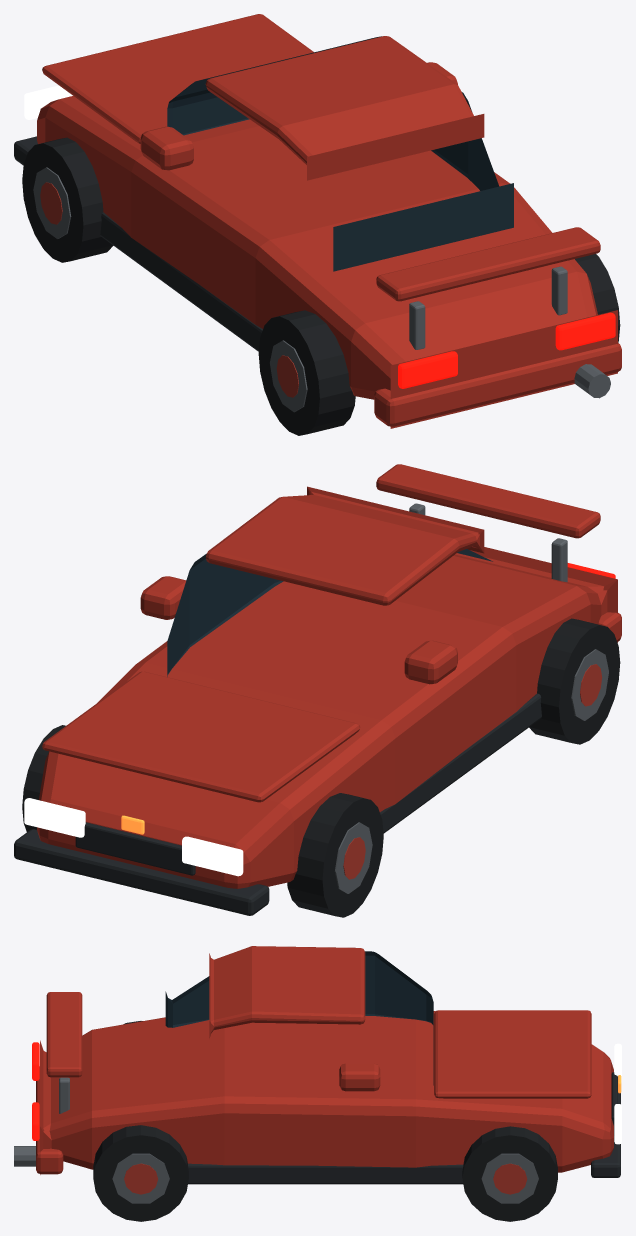
The model's file is hinode-fictional-coupe.glb.
The picture shows the model from 3 angles, top to bottom: view 1: azimuth 30°, elevation 25°; view 2: azimuth 150°, elevation 25°; view 3: azimuth 270°, elevation 25°; orthographic projection. The views are drawn at different scales.
Parts seen in each view (by area): view 1: CAR_Body_Shell, CAR_Roof_Panel, CAR_Hood_Inset, CAR_Cabin_Glass, WHEEL_RL, CAR_Rear_Bumper, CAR_Spoiler_Wing, WHEEL_FL, CAR_Side_Skirt_L, CAR_Mirror_L, BRAKE_LIGHT_R, BRAKE_LIGHT_L (+9 smaller); view 2: CAR_Body_Shell, CAR_Hood_Inset, CAR_Roof_Panel, WHEEL_FL, CAR_Spoiler_Wing, WHEEL_RL, CAR_Front_Lip, CAR_Cabin_Glass, CAR_Side_Skirt_L, CAR_Front_Grille, CAR_Mirror_L, HEADLIGHT_L (+8 smaller); view 3: CAR_Body_Shell, CAR_Hood_Inset, CAR_Roof_Panel, CAR_Side_Skirt_R, WHEEL_RR, WHEEL_FR, CAR_Cabin_Glass, CAR_Spoiler_Wing, WHEEL_FR_HUB, WHEEL_RR_HUB, CAR_Mirror_R, CAR_Rear_Bumper (+5 smaller).
Boxes of the visible parts, x1,y1,x2,y2 form: CAR_Body_Shell: (37, 96, 617, 428); CAR_Roof_Panel: (205, 36, 484, 180); CAR_Hood_Inset: (42, 14, 313, 143); CAR_Cabin_Glass: (167, 36, 513, 271); WHEEL_RL: (258, 310, 355, 435); CAR_Rear_Bumper: (374, 343, 621, 426); CAR_Spoiler_Wing: (376, 227, 600, 301); WHEEL_FL: (22, 137, 113, 262); CAR_Side_Skirt_L: (100, 212, 262, 351); CAR_Mirror_L: (140, 126, 193, 170); BRAKE_LIGHT_R: (555, 312, 615, 350); BRAKE_LIGHT_L: (398, 351, 457, 388); CAR_Body_Shell: (37, 547, 617, 888); CAR_Hood_Inset: (42, 671, 360, 802); CAR_Roof_Panel: (205, 486, 484, 605); WHEEL_FL: (287, 793, 383, 917); CAR_Spoiler_Wing: (376, 464, 600, 538); WHEEL_RL: (529, 618, 620, 744); CAR_Front_Lip: (14, 829, 269, 915); CAR_Cabin_Glass: (167, 549, 492, 676); CAR_Side_Skirt_L: (380, 693, 541, 833); CAR_Front_Grille: (75, 822, 195, 875); CAR_Mirror_L: (404, 640, 457, 684); HEADLIGHT_L: (182, 836, 243, 876); CAR_Body_Shell: (40, 1011, 613, 1174); CAR_Hood_Inset: (434, 1010, 591, 1098); CAR_Roof_Panel: (209, 946, 365, 1038); CAR_Side_Skirt_R: (188, 1163, 463, 1184); WHEEL_RR: (93, 1125, 188, 1221); WHEEL_FR: (462, 1126, 557, 1221); CAR_Cabin_Glass: (165, 951, 433, 1085); CAR_Spoiler_Wing: (46, 992, 82, 1077); WHEEL_FR_HUB: (481, 1153, 538, 1203); WHEEL_RR_HUB: (112, 1153, 169, 1203); CAR_Mirror_R: (339, 1063, 380, 1091); CAR_Rear_Bumper: (36, 1066, 63, 1174).
Size of the model in its own units: 2 by 1.5 by 4.45.
